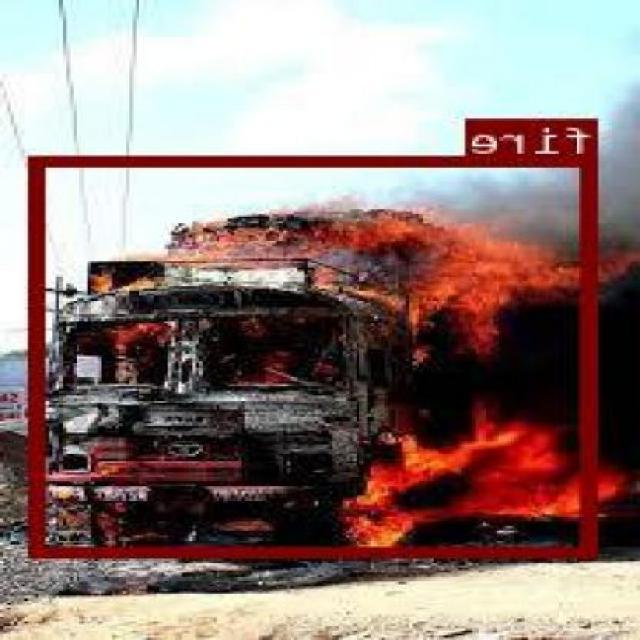Fire: (34, 154, 600, 556)
